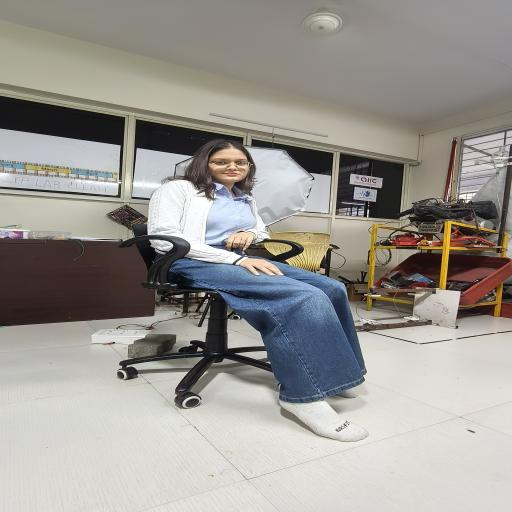survivor: (146, 139, 370, 442)
